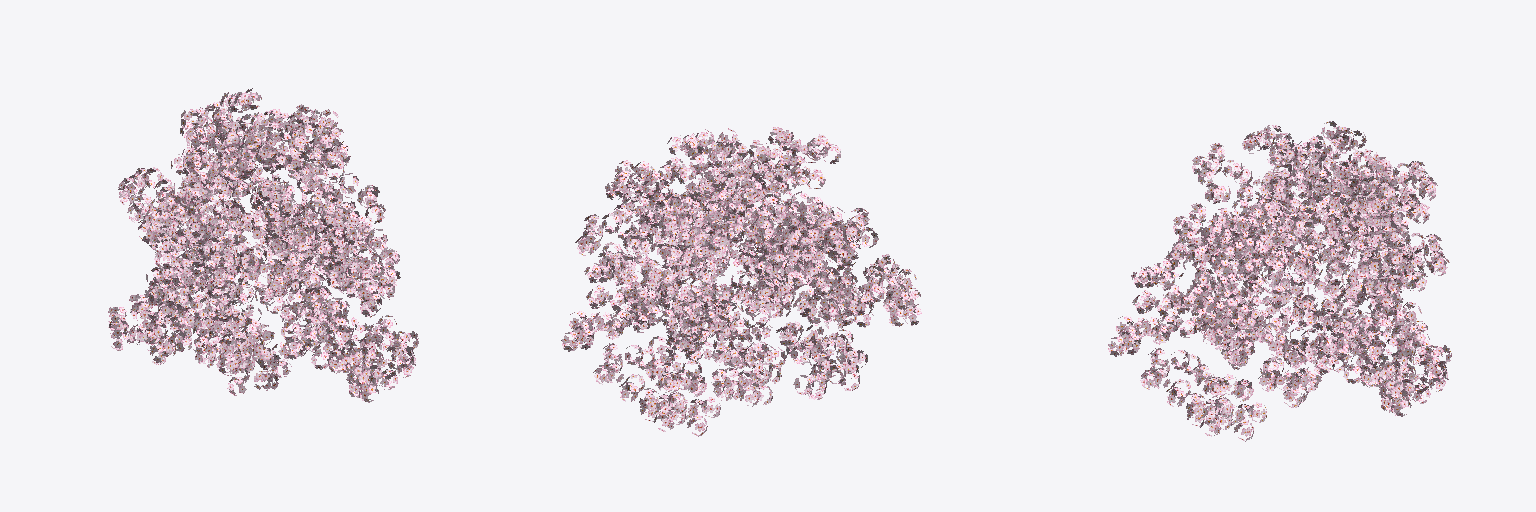
The picture shows the model from 3 angles: view 1: azimuth 30°, elevation 25°; view 2: azimuth 150°, elevation 25°; view 3: azimuth 270°, elevation 25°; orthographic projection.
Visible parts, largest first — view 1: flowers; view 2: flowers; view 3: flowers.
Boxes of the visible parts, <box> form: flowers: <box>108,88,418,402</box>; flowers: <box>561,127,921,436</box>; flowers: <box>1108,121,1451,441</box>.
Bounding box in the file's own units: 24.64 × 23.16 × 26.24.
Materials: 1 (1 with a texture image).